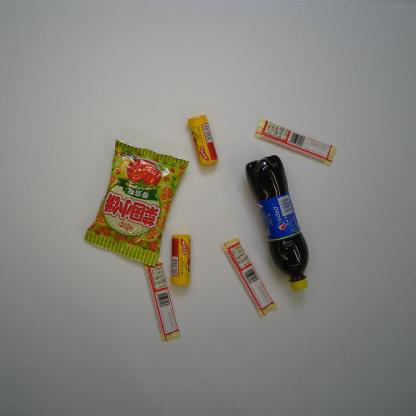Candy: (186, 114, 219, 167), (168, 233, 192, 286)
Chocolate: (220, 236, 278, 319), (254, 118, 338, 166), (144, 256, 182, 343)
Drink: (245, 154, 310, 292)
Puffed Food: (83, 139, 192, 268)
